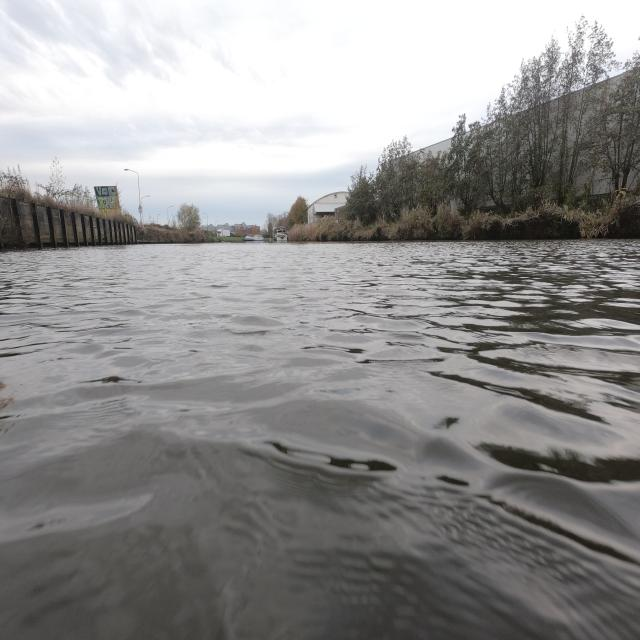reed: (286, 198, 639, 242)
sky: (2, 2, 639, 222)
tree: (345, 18, 640, 224)
wall: (0, 194, 200, 244)
water: (1, 236, 637, 638)
